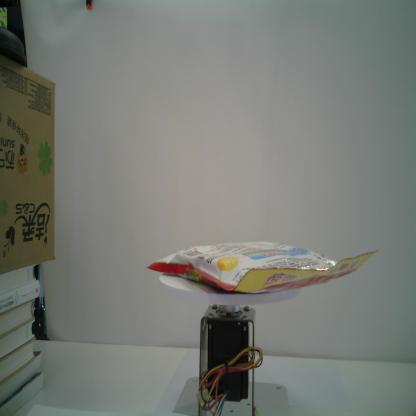Instant Drink: (143, 240, 378, 295)
